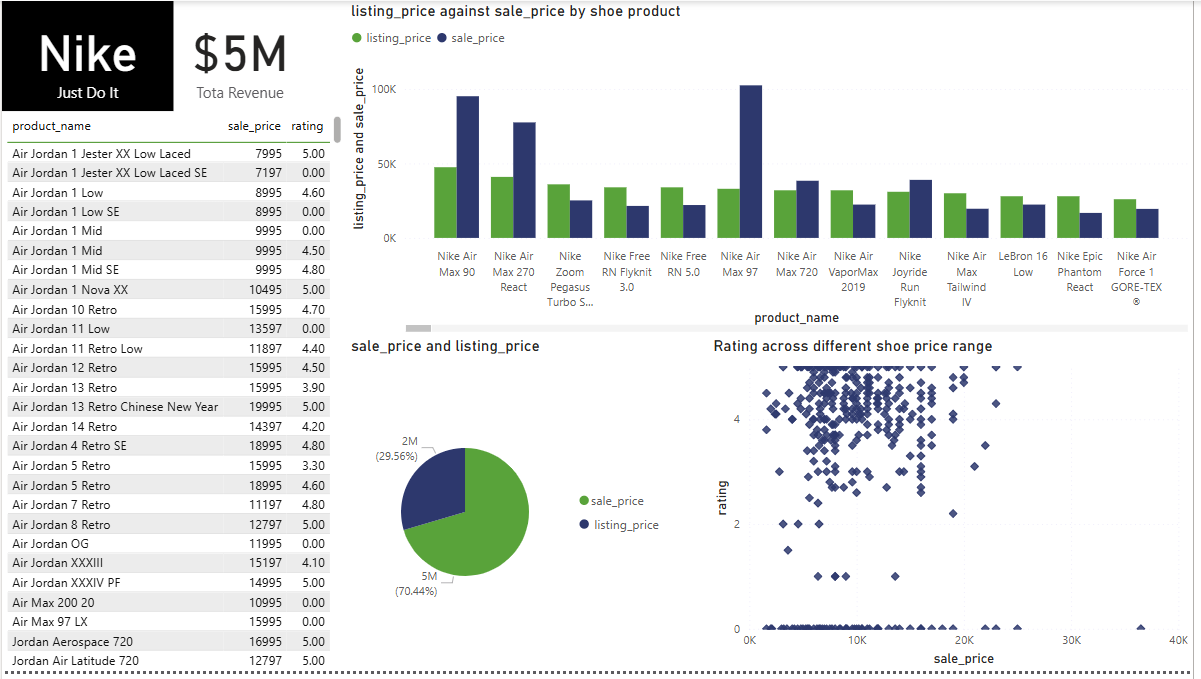

What the dashboard file says about the page in this screenshot:
{"tool":"powerbi","page":{"name":"Page 1","canvas":[1280,720],"ordinal":0},"visuals":[{"type":"pieChart","fields":{"Y":["Sum(Sheet1.sale_price)","Sum(Sheet1.listing_price)"]},"box":[370.5,360.7,350.9,358.7],"z":0},{"type":"clusteredColumnChart","title":" listing_price against  sale_price by shoe product","fields":{"Y":["Sum(Sheet1.listing_price)","Sum(Sheet1.sale_price)"],"Category":["Sheet1.product_name"]},"box":[370.5,0,909.6,360.7],"z":1},{"type":"scatterChart","title":"Rating across different shoe price range","fields":{"X":["Sheet1.sale_price"],"Y":["Sheet1.rating"]},"box":[760.6,360.7,519.5,358.7],"z":2},{"type":"tableEx","fields":{"Values":["Sheet1.product_name","Sheet1.sale_price","Sheet1.rating"]},"box":[0,118.4,370,600.3],"z":3},{"type":"card","fields":{"Values":["Sum(Sheet1.sale_price)"]},"box":[154.6,0,202.3,118.4],"z":4},{"type":"card","fields":{"Values":["Min(Sheet1.brand)"]},"box":[0,0,184.2,118.4],"z":5}]}

Visuals, with their boxes in screenshot pixels (x1, y1, x2, y2), scaled from the page's 1280x720 canvas onto the 1201x679 screenshot:
pieChart - Sum(Sheet1.sale_price) x Sum(Sheet1.listing_price): x1=348 y1=340 x2=677 y2=678
" listing_price against  sale_price by shoe product" clusteredColumnChart: x1=348 y1=0 x2=1200 y2=340
"Rating across different shoe price range" scatterChart: x1=714 y1=340 x2=1200 y2=678
tableEx - Sheet1.product_name x Sheet1.sale_price: x1=0 y1=112 x2=347 y2=678
card - Sum(Sheet1.sale_price): x1=145 y1=0 x2=335 y2=112
card - Min(Sheet1.brand): x1=0 y1=0 x2=173 y2=112
